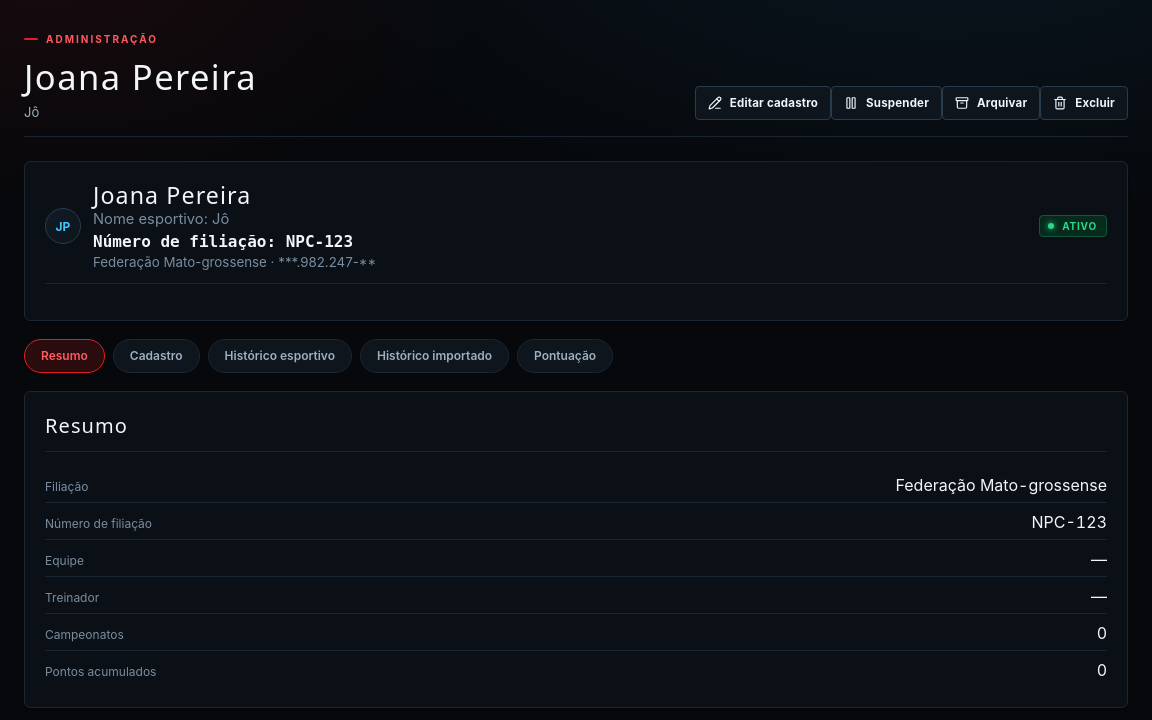
Test: a edição manda só o que mudou, e nunca CPF nem equipe › recusa do servidor aparece no formulário e o diálogo não fecha
The width and height of the screenshot is (1152, 720).
Click the button "Editar cadastro": (763, 103) [695,86,831,120]
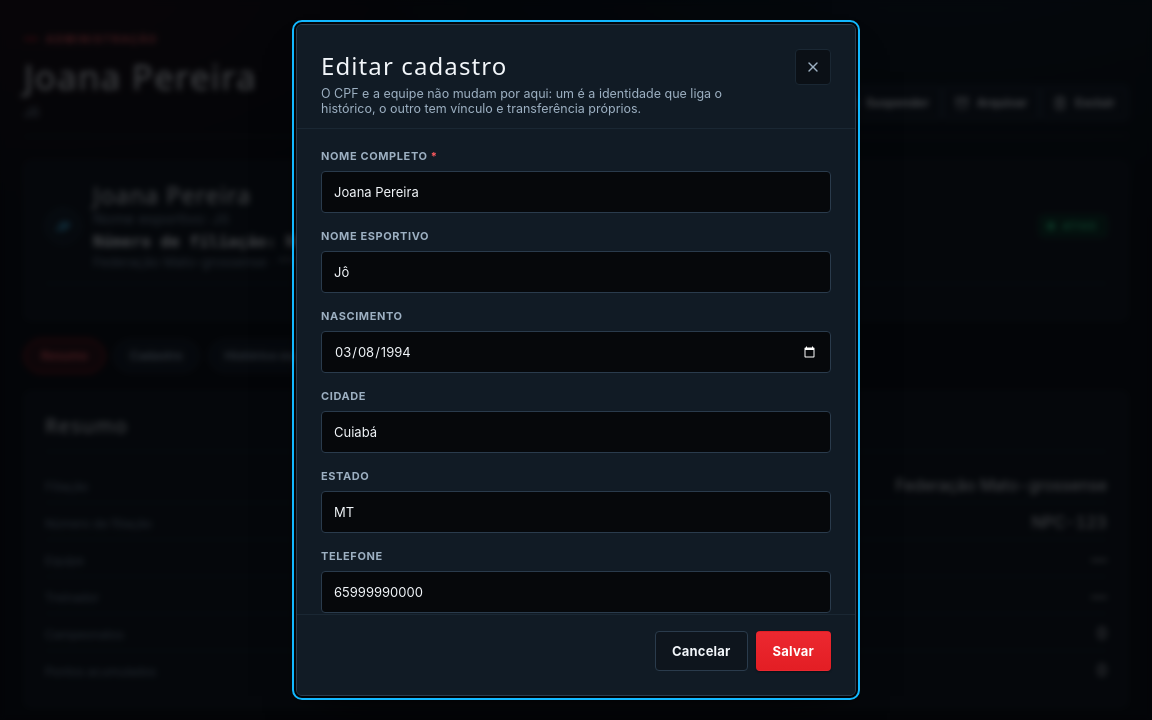
Replace the text in the field showing "Joana Pereira" with "Joana P. Pereira": (576, 192) [321,171,831,213]
(page scrolled)
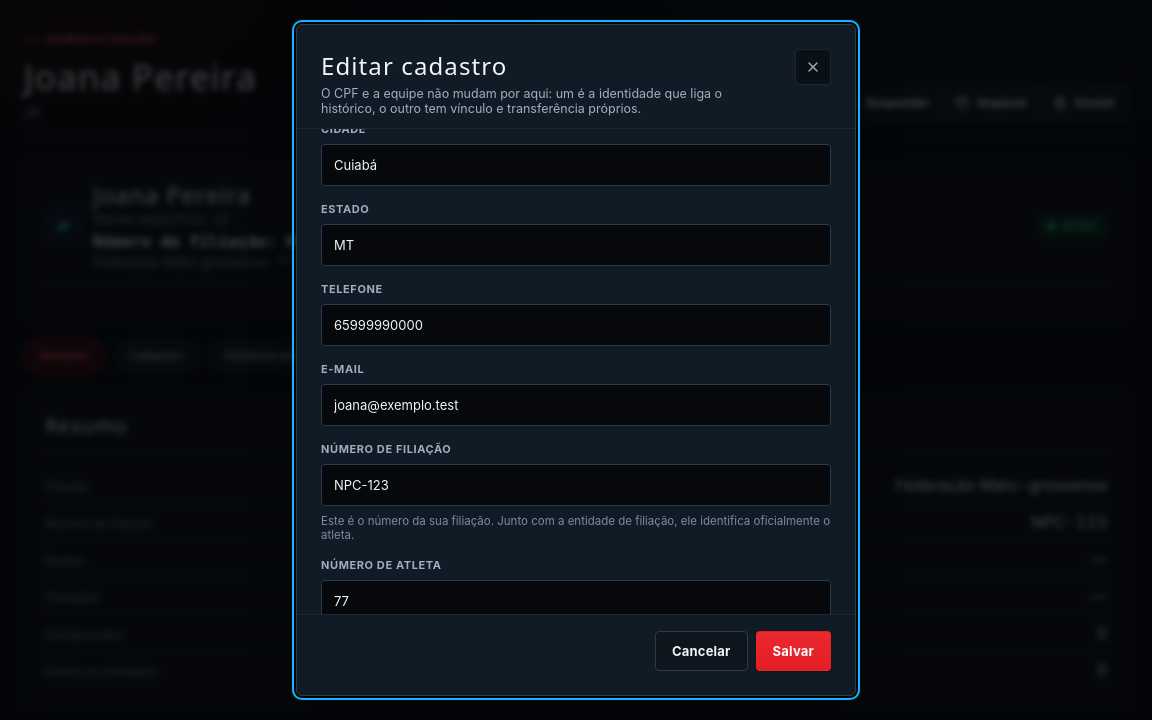
Submit the form showing "Joana Pereira"
(page scrolled)
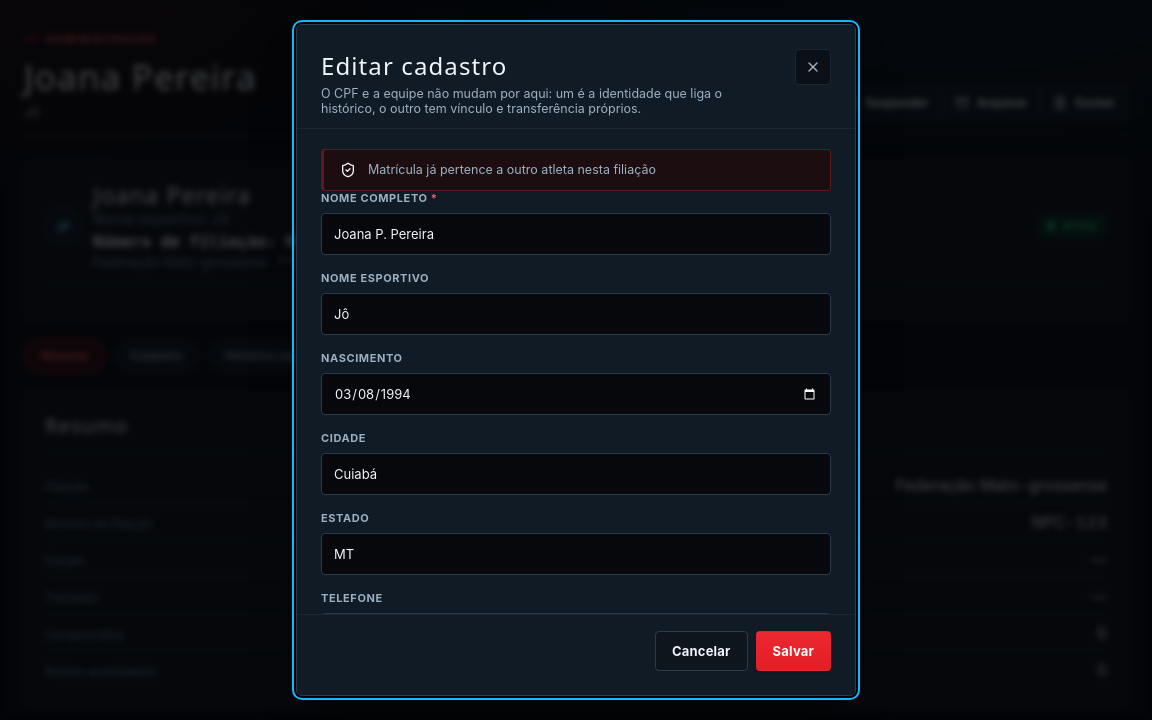
Expected: the text "Matrícula já pertence a outro atleta nesta filiação" is shown, [368,162,656,177]
